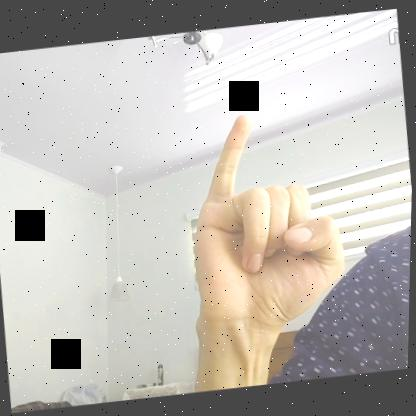I: (175, 102, 361, 335)
